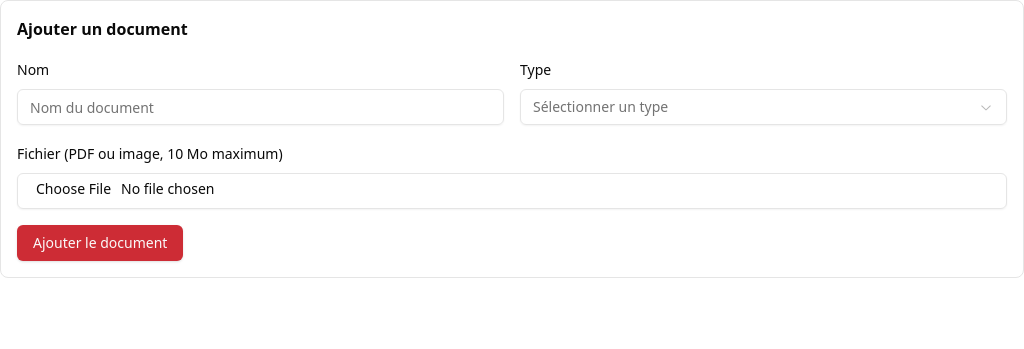
Test: ChantierDocumentUploadForm › does not submit when required fields are missing
Click the button "Ajouter le document": (100,243) x1=17 y1=225 x2=183 y2=261
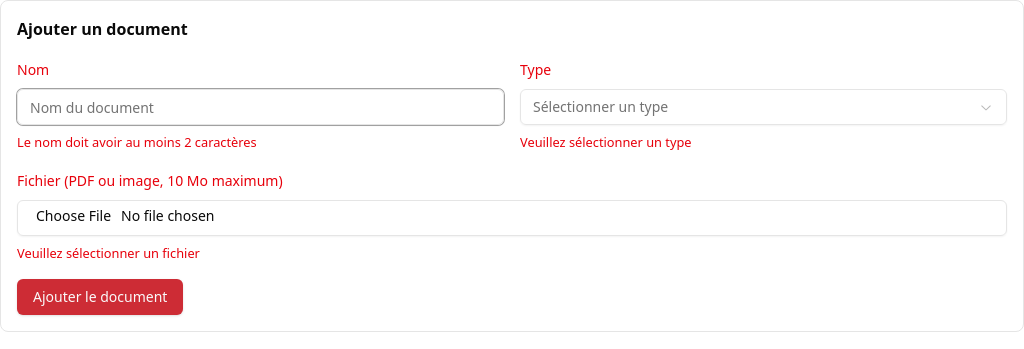
Check: the text "Veuillez sélectionner un type" is shown, box x1=520 y1=133 x2=692 y2=151
